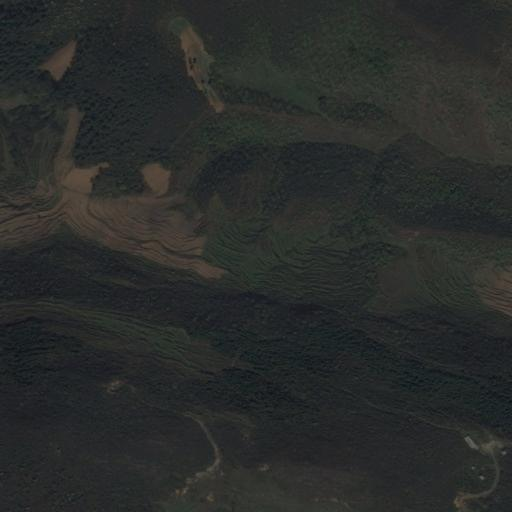landslide: (174, 19, 227, 118), (38, 37, 77, 83), (59, 160, 109, 195), (139, 160, 170, 196)
